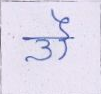au_matra: (50, 9, 72, 61)
